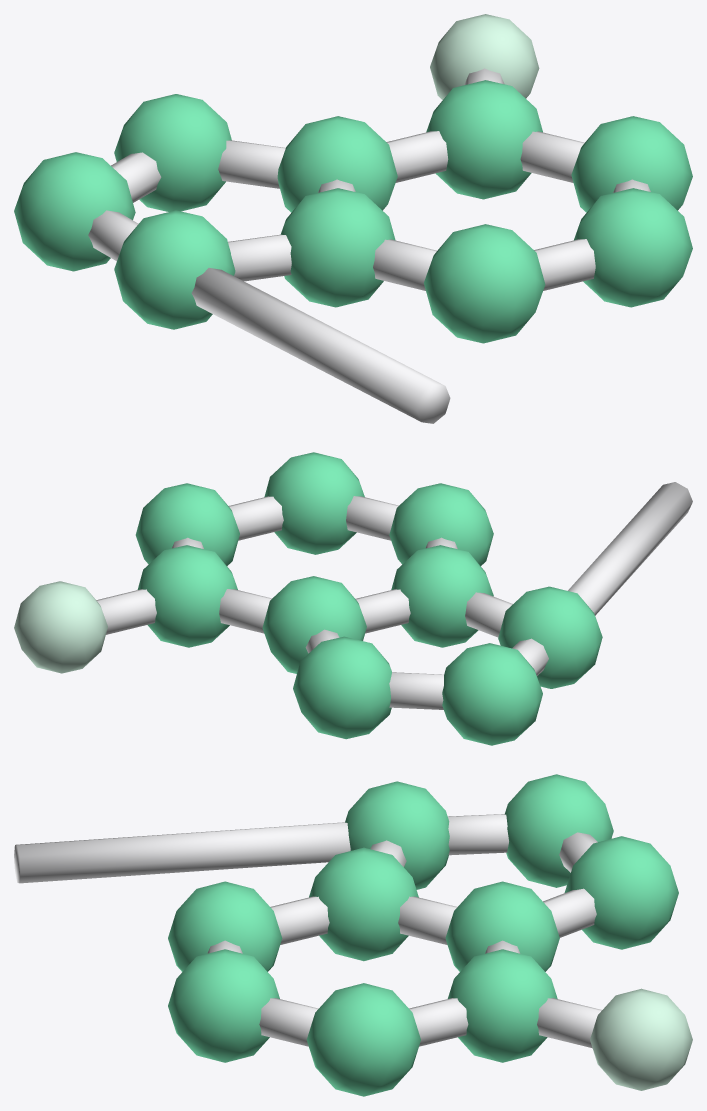
Rendered from Adenine_A.glb.
3 renders of one model, top to bottom at view 1: azimuth 30°, elevation 25°; view 2: azimuth 150°, elevation 25°; view 3: azimuth 270°, elevation 25°, orthographic. The views are drawn at different scales.
Visible parts, largest first — view 1: Adenine_A_Ring, Adenine_A_Bonds, Adenine_A_Edge; view 2: Adenine_A_Ring, Adenine_A_Bonds, Adenine_A_Edge; view 3: Adenine_A_Ring, Adenine_A_Bonds, Adenine_A_Edge.
Part boxes in pixels (x1,y1,x2,y2): Adenine_A_Ring: (14, 80, 692, 343); Adenine_A_Bonds: (88, 68, 650, 423); Adenine_A_Edge: (430, 14, 539, 99); Adenine_A_Ring: (135, 452, 602, 745); Adenine_A_Bonds: (96, 482, 692, 709); Adenine_A_Edge: (14, 581, 107, 673); Adenine_A_Ring: (168, 774, 678, 1096); Adenine_A_Bonds: (14, 814, 601, 1048); Adenine_A_Edge: (590, 988, 692, 1090).
Size of the model in its own units: 0.0532 by 0.01 by 0.0593.
